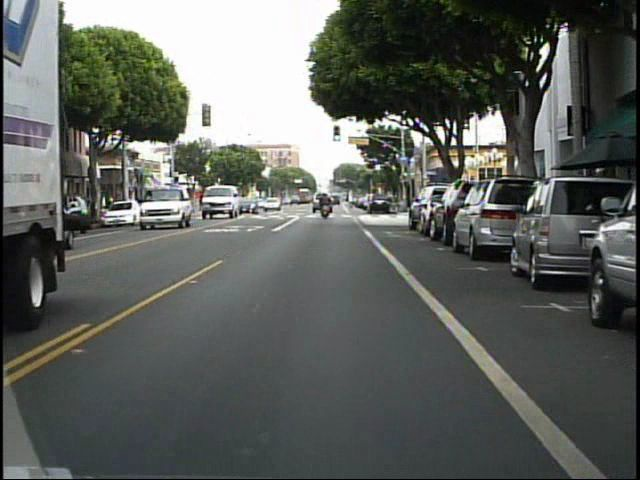person: (317, 191, 333, 219)
